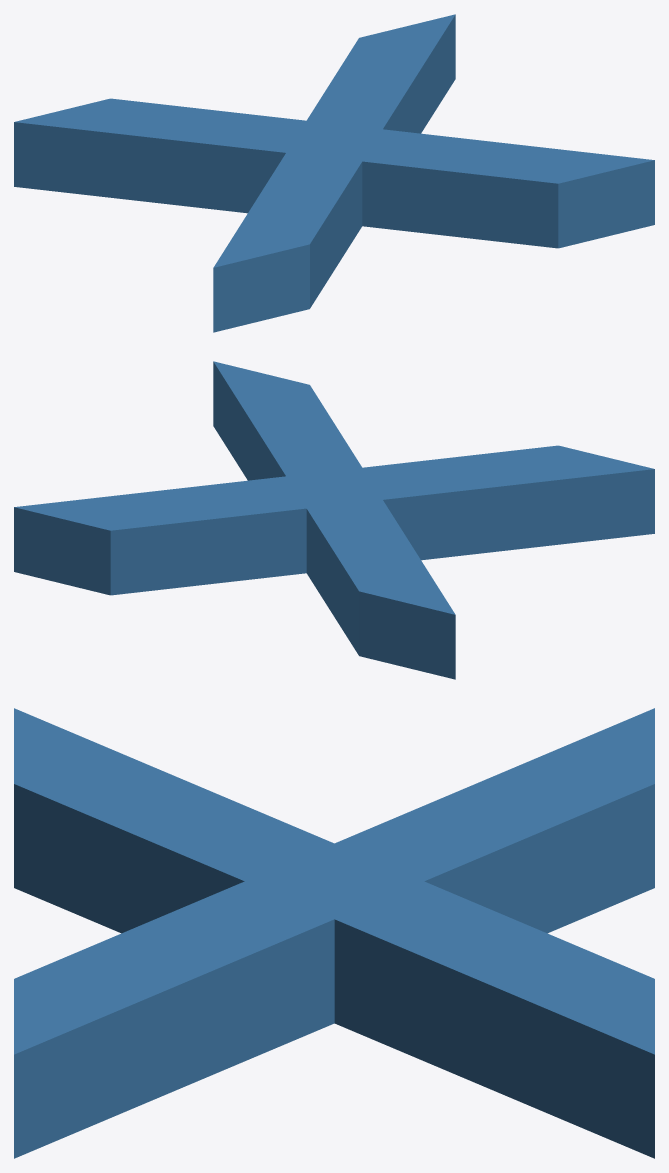
3 renders of one model, top to bottom at view 1: azimuth 30°, elevation 25°; view 2: azimuth 150°, elevation 25°; view 3: azimuth 270°, elevation 25°, orthographic. The views are drawn at different scales.
Visible parts, largest first — view 1: SketchUp; view 2: SketchUp; view 3: SketchUp.
Boxes of the visible parts, bbox=[...] form: SketchUp: bbox=[14, 14, 654, 332]; SketchUp: bbox=[14, 361, 654, 679]; SketchUp: bbox=[14, 708, 654, 1158].
Bounding box in the file's own units: 19.63 × 15.34 × 2.75.
